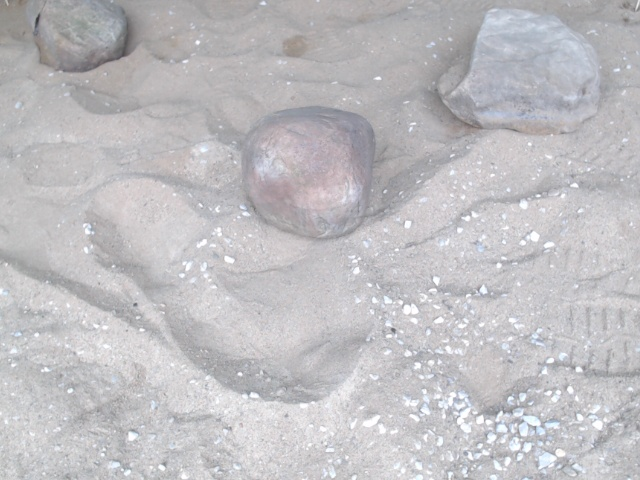rock: (438, 8, 600, 135), (242, 106, 376, 239), (32, 1, 131, 73)
